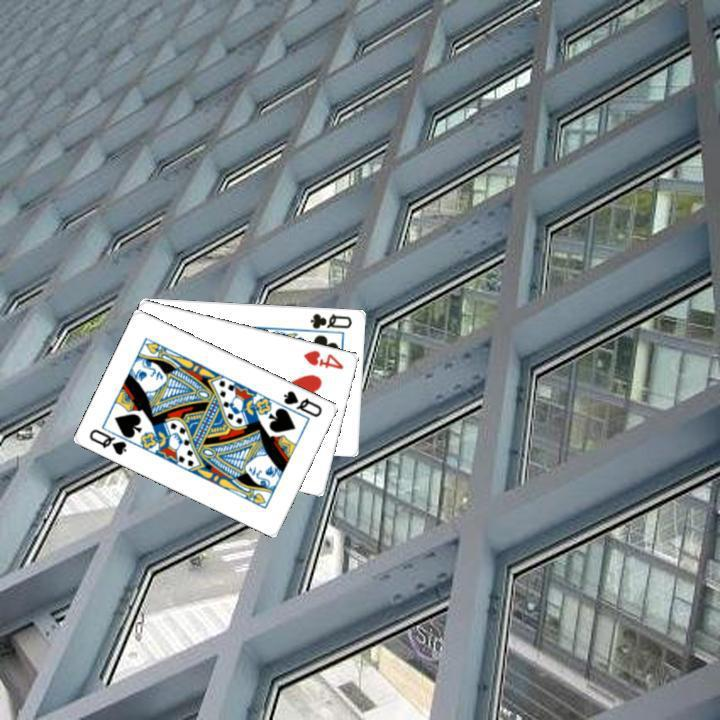4: (300, 345, 346, 371)
Q: (279, 386, 324, 419), (85, 424, 129, 457), (306, 308, 354, 330)
